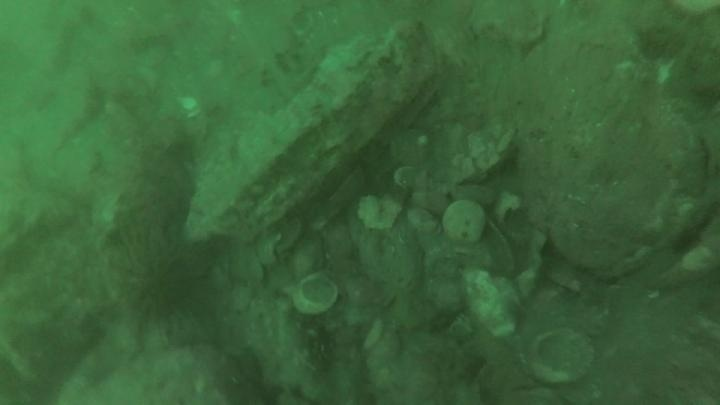echinus: (124, 244, 208, 323)
scallop: (466, 1, 550, 51)
